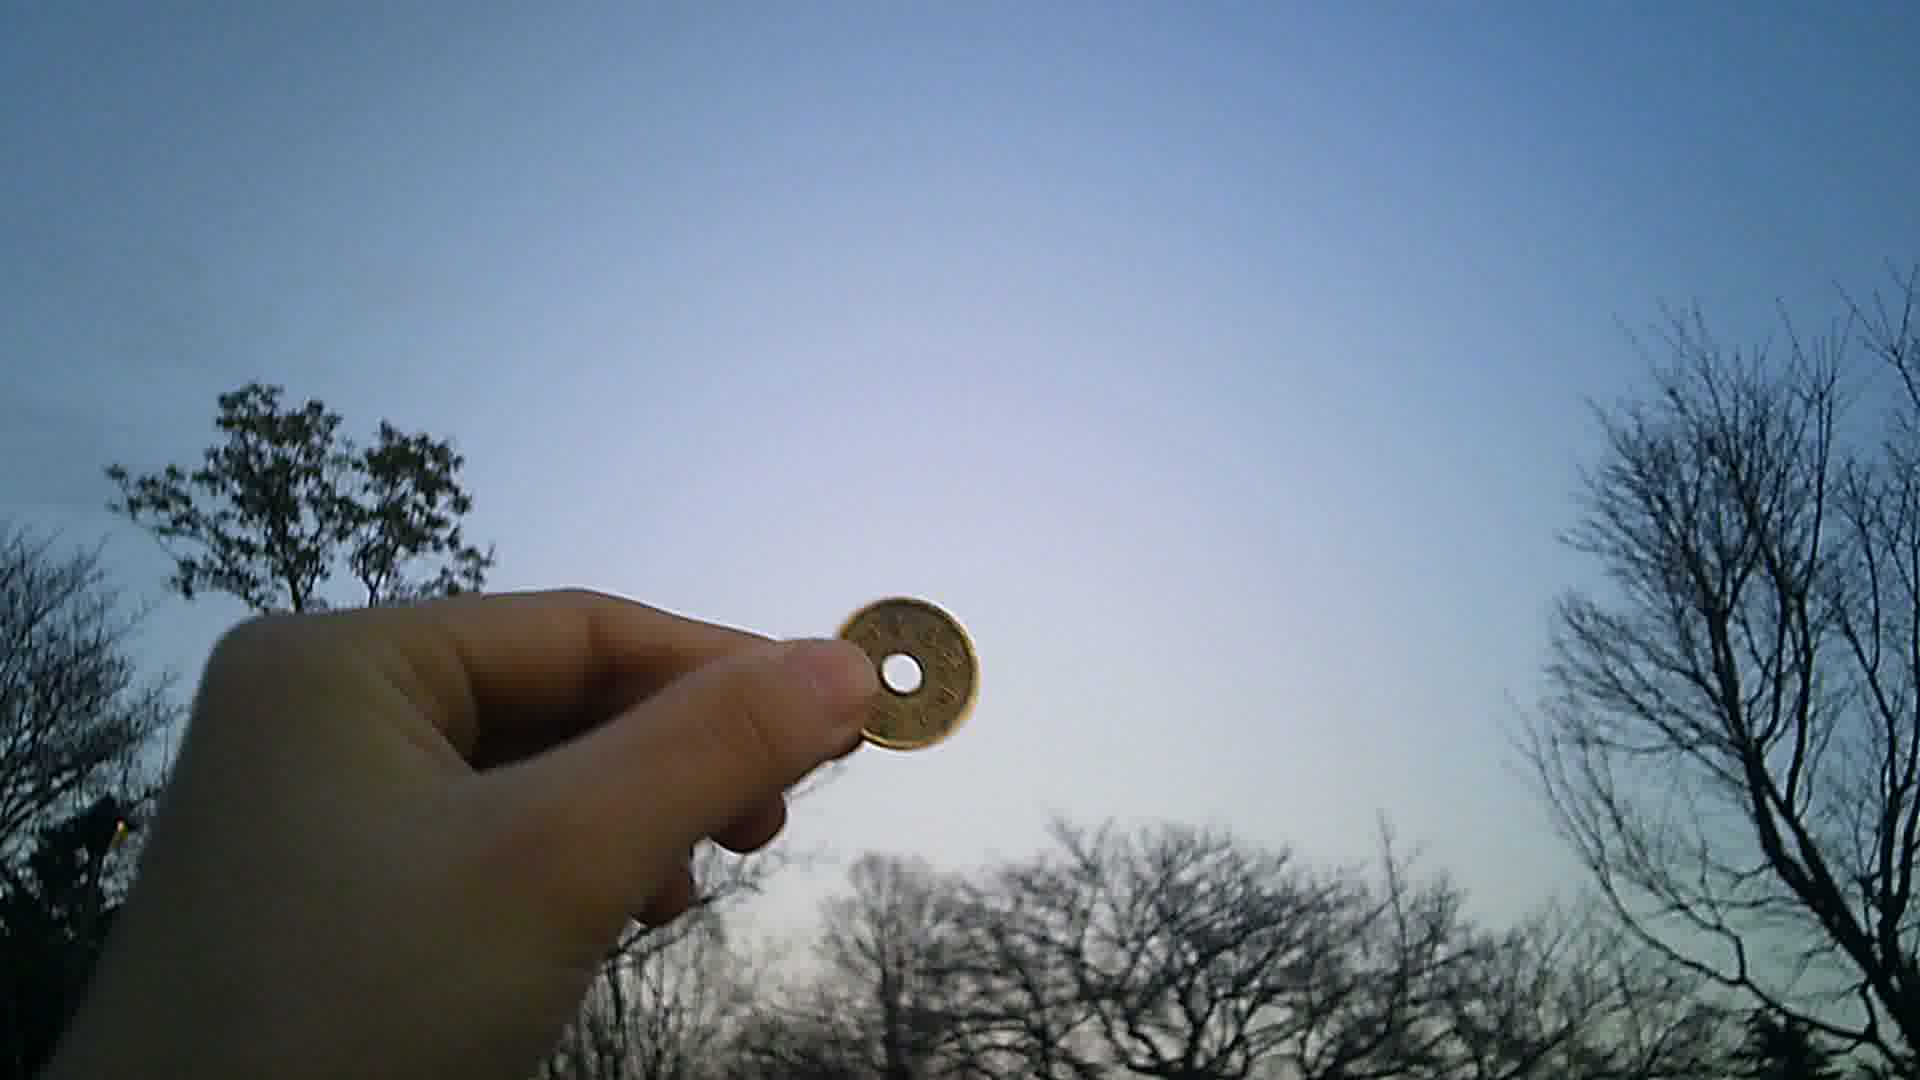5 Yen: (825, 597, 977, 752)
